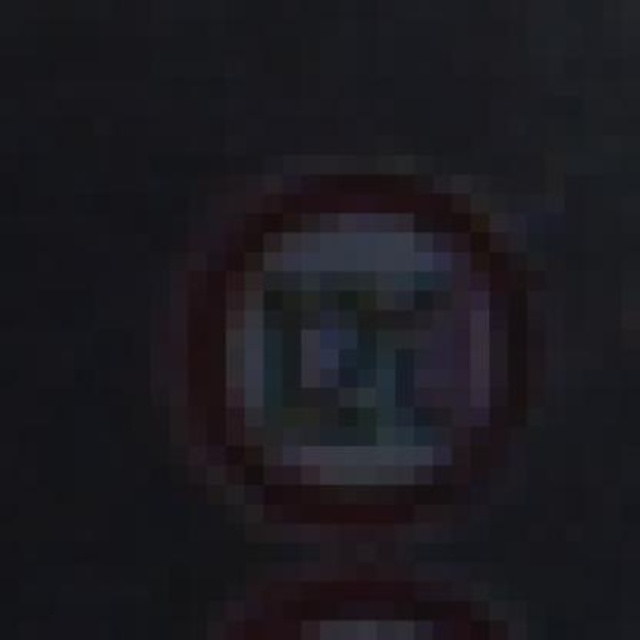Tốc độ tối đa cho phép 120km/h: (187, 167, 530, 534)
